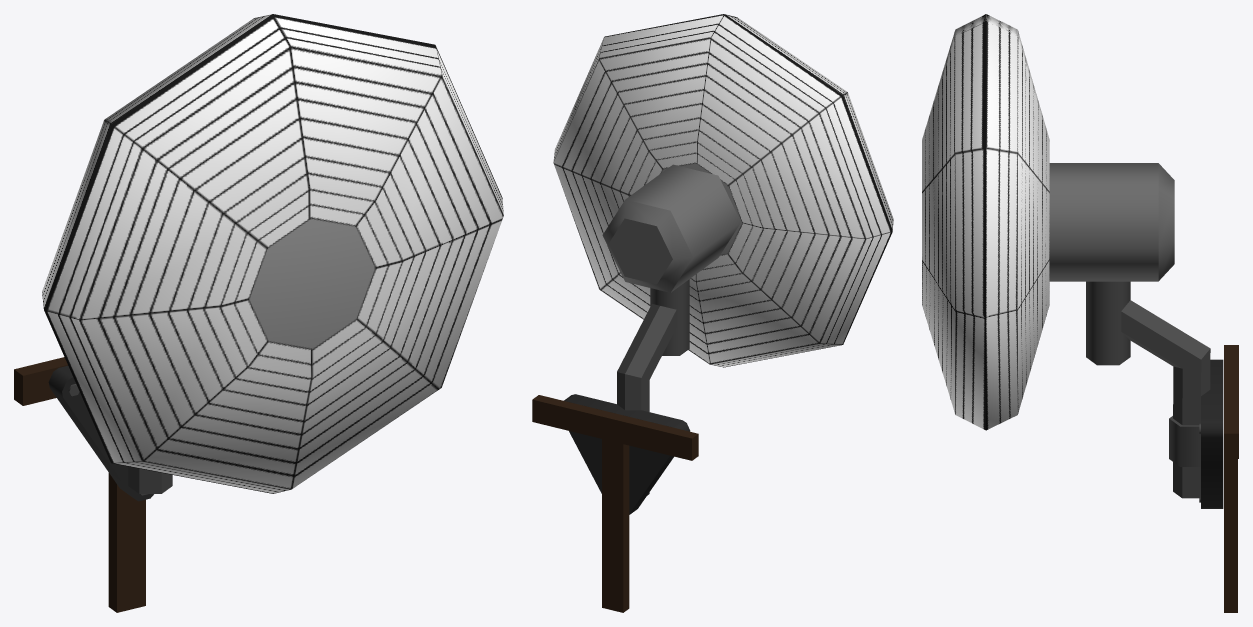
The model's file is fengshan.FBX.
3 renders of one model, left to right at view 1: azimuth 30°, elevation 25°; view 2: azimuth 150°, elevation 25°; view 3: azimuth 270°, elevation 25°, orthographic. The views are drawn at different scales.
Parts seen in each view (by area): view 1: YF_Model_fengshan; view 2: YF_Model_fengshan; view 3: YF_Model_fengshan.
Part boxes in pixels (bbox=[...]): YF_Model_fengshan: bbox=[14, 14, 503, 612]; YF_Model_fengshan: bbox=[532, 14, 893, 612]; YF_Model_fengshan: bbox=[922, 14, 1238, 612].
Size of the model in its own units: 59.56 by 86.81 by 42.59.
2 materials, 2 textured.
